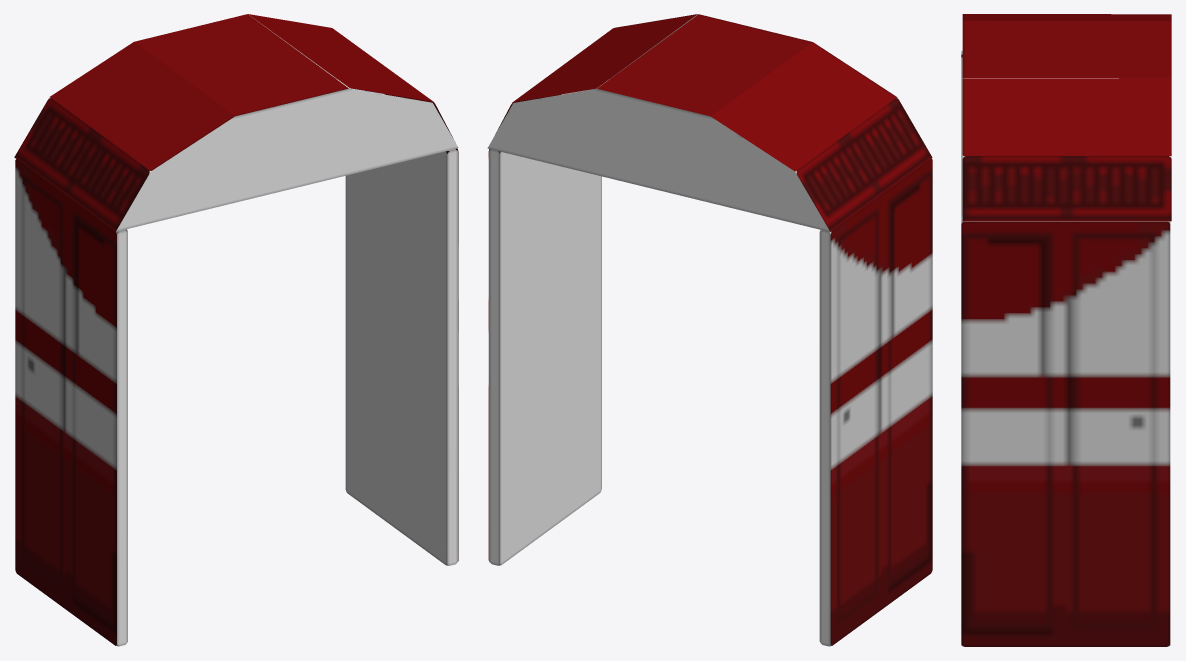
Rendered from df7g_enclosure_c.obj.
The picture shows the model from 3 angles, left to right: view 1: azimuth 30°, elevation 25°; view 2: azimuth 150°, elevation 25°; view 3: azimuth 270°, elevation 25°; orthographic projection. The views are drawn at different scales.
Parts seen in each view (by area): view 1: df7g_enclosure_c; view 2: df7g_enclosure_c; view 3: df7g_enclosure_c.
Part boxes in pixels (box(x1,y1,x2,y2)): df7g_enclosure_c: box(14, 14, 458, 646); df7g_enclosure_c: box(487, 14, 932, 646); df7g_enclosure_c: box(961, 14, 1171, 646).
Bounding box in the file's own units: 1.95 × 2.72 × 1.01.
